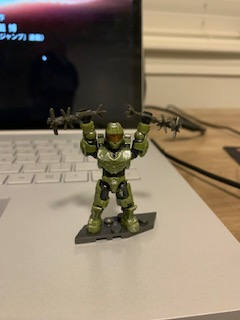chief: (75, 105, 153, 236)
spartan: (73, 103, 151, 234)
up: (76, 108, 153, 178)
